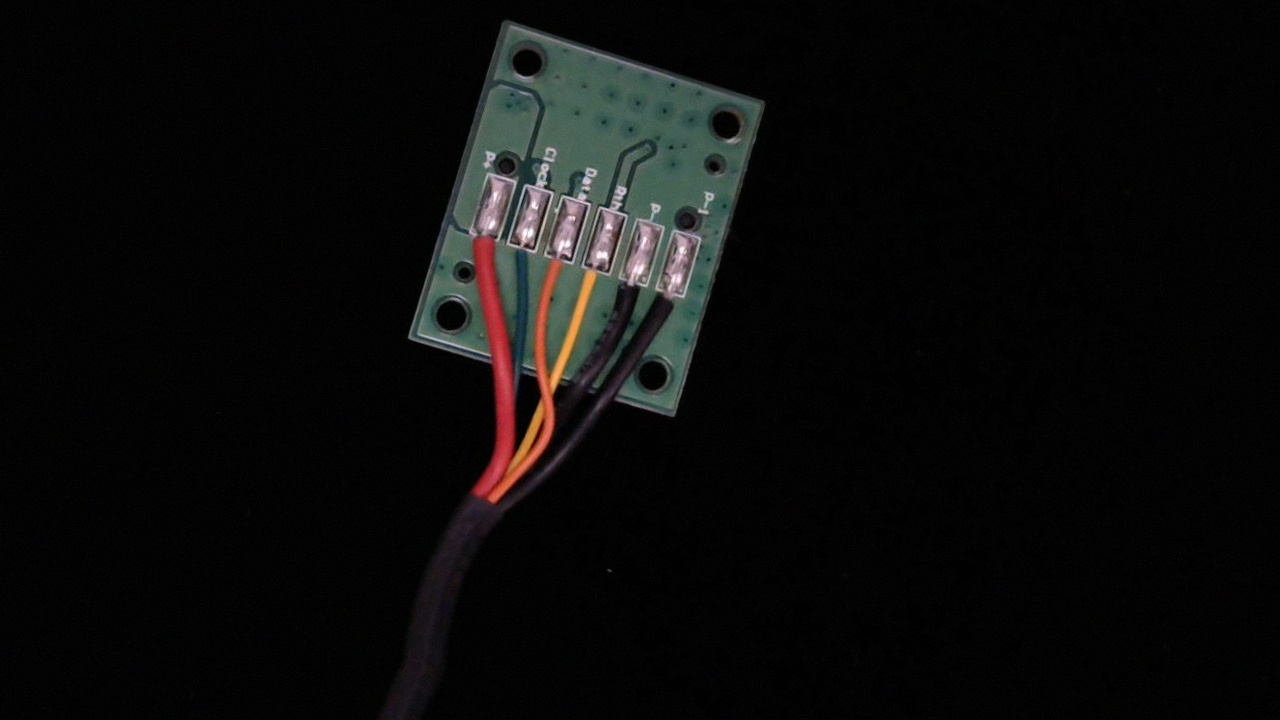Black: (599, 264, 653, 334)
Black1: (639, 275, 691, 349)
Green: (494, 227, 544, 296)
Orange: (527, 239, 579, 317)
Red: (451, 216, 504, 293)
Yellow: (566, 251, 616, 321)
